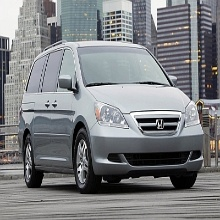no damage: (18, 41, 205, 191)
